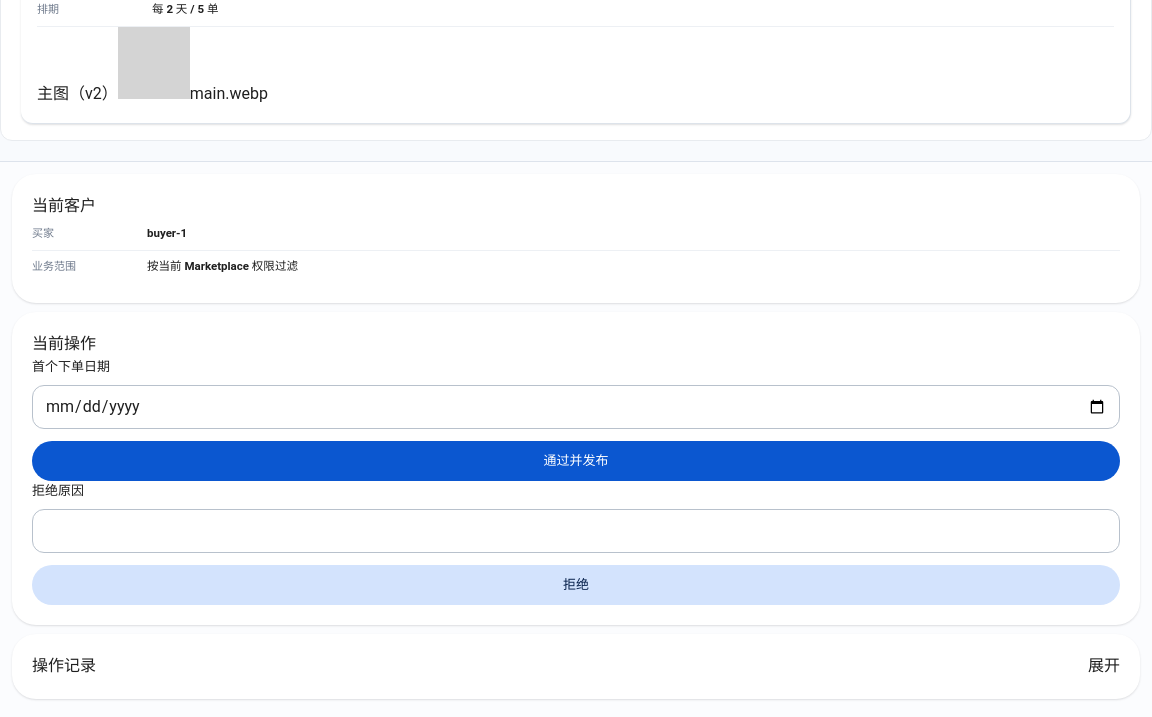
Test: demand review panel › sends exactly one publish request while the button is pending
(page scrolled)
Step 1. Type "2026-08-11" into the date field labelled "首个下单日期" → (576, 407), box left=32, top=385, right=1120, bottom=429
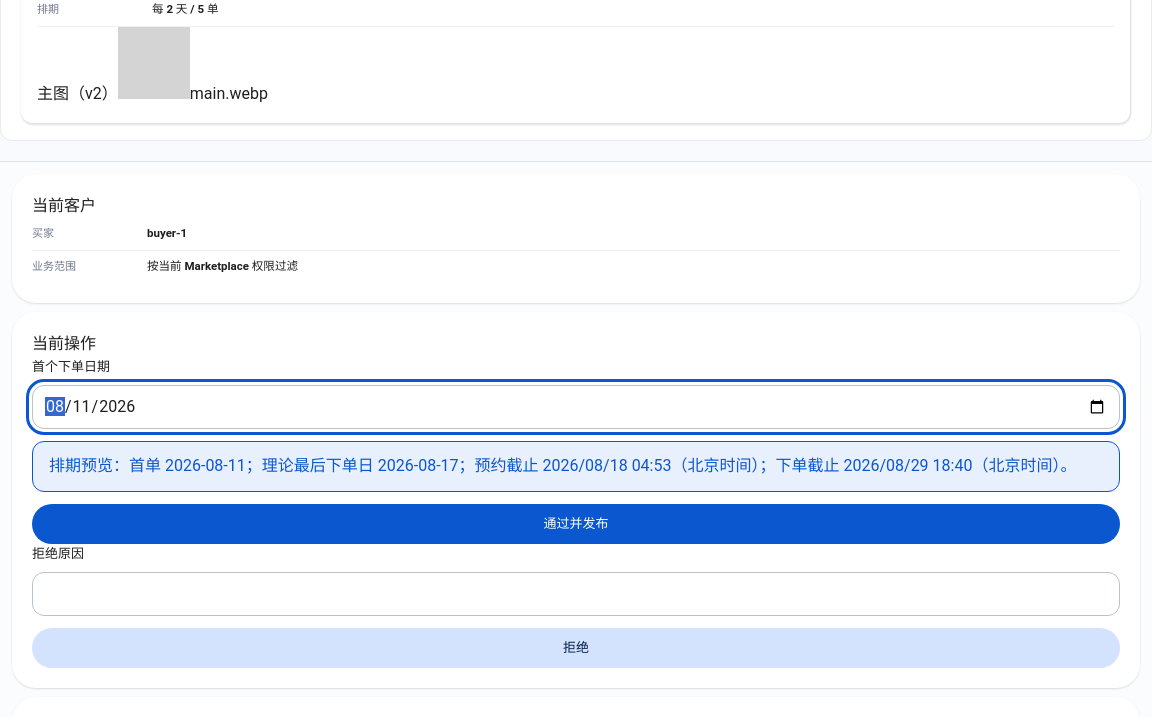
Step 2. Click the button "通过并发布" → (576, 524), box left=32, top=504, right=1120, bottom=544
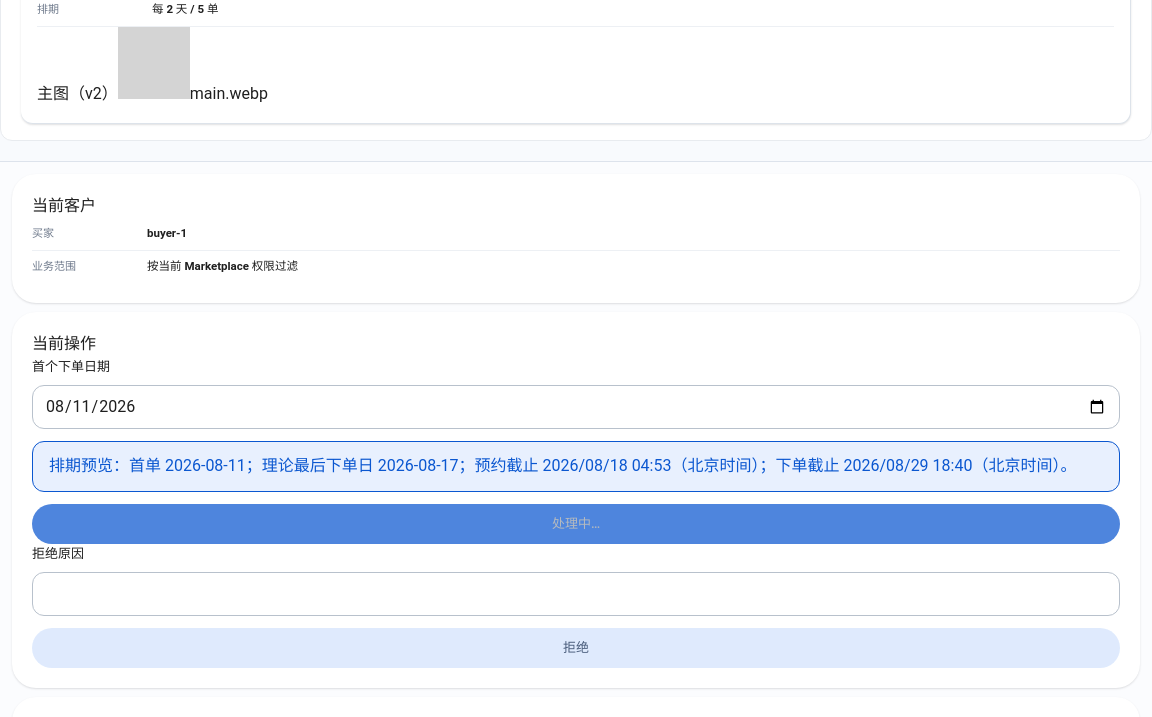
expect the button "处理中…" is disabled: met
Step 3. Click the button "处理中…" → (576, 524), box left=32, top=504, right=1120, bottom=544
(page scrolled)
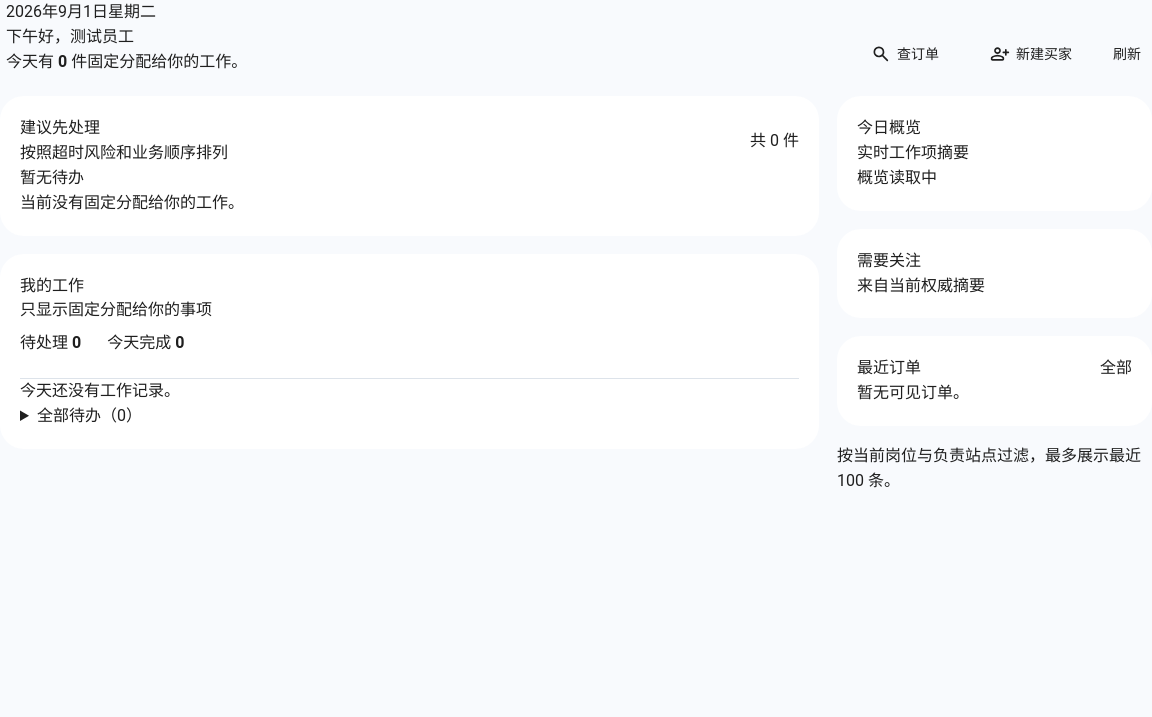
expect the heading "暂无待办" is shown: met, box left=20, top=168, right=84, bottom=187
